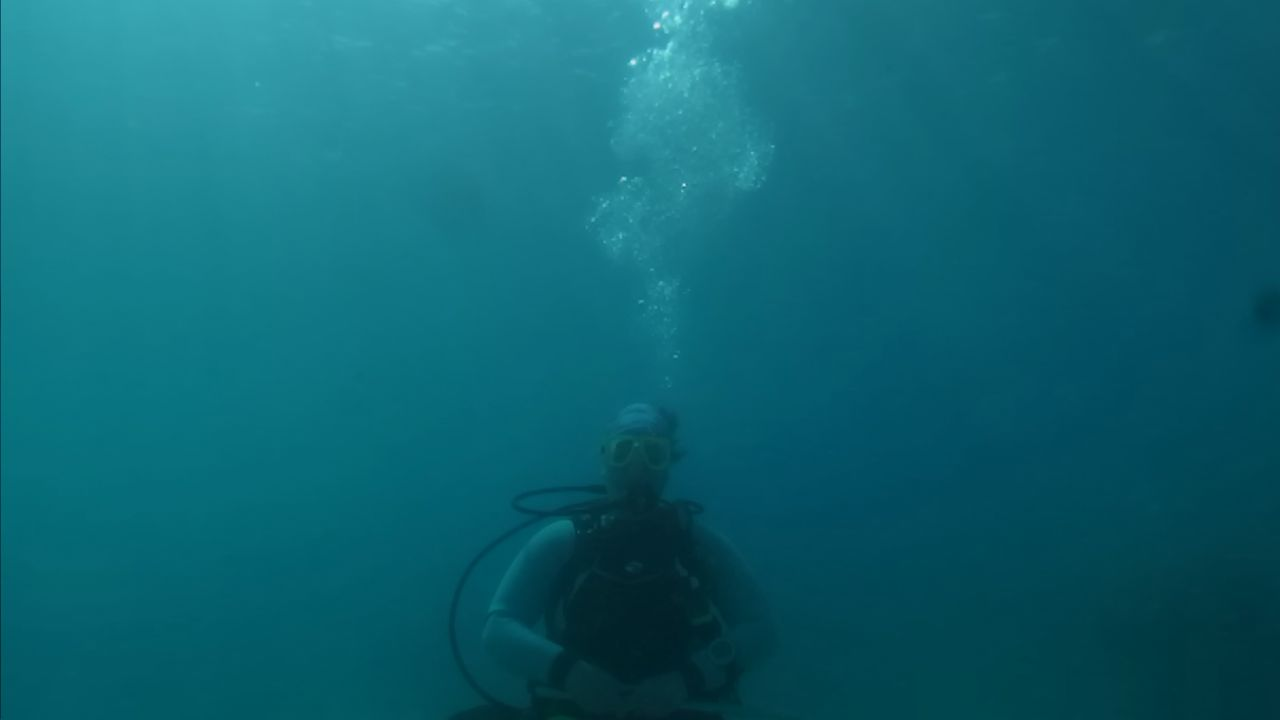Diver: (456, 364, 822, 712)
